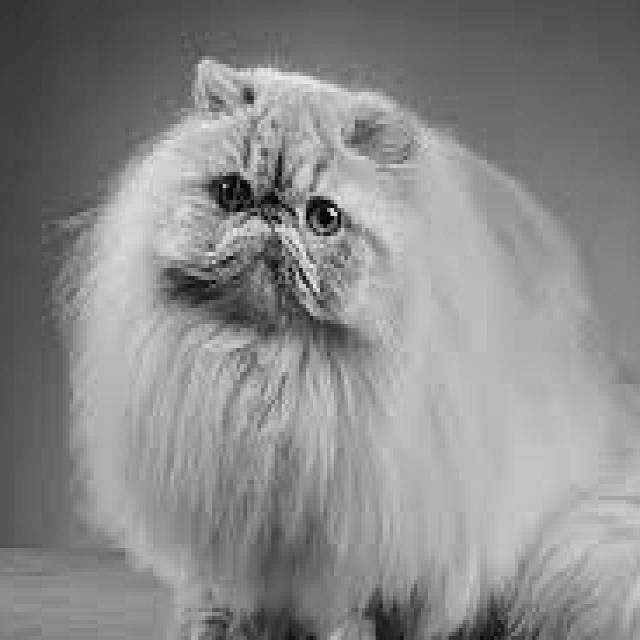iran: (153, 44, 424, 357)
